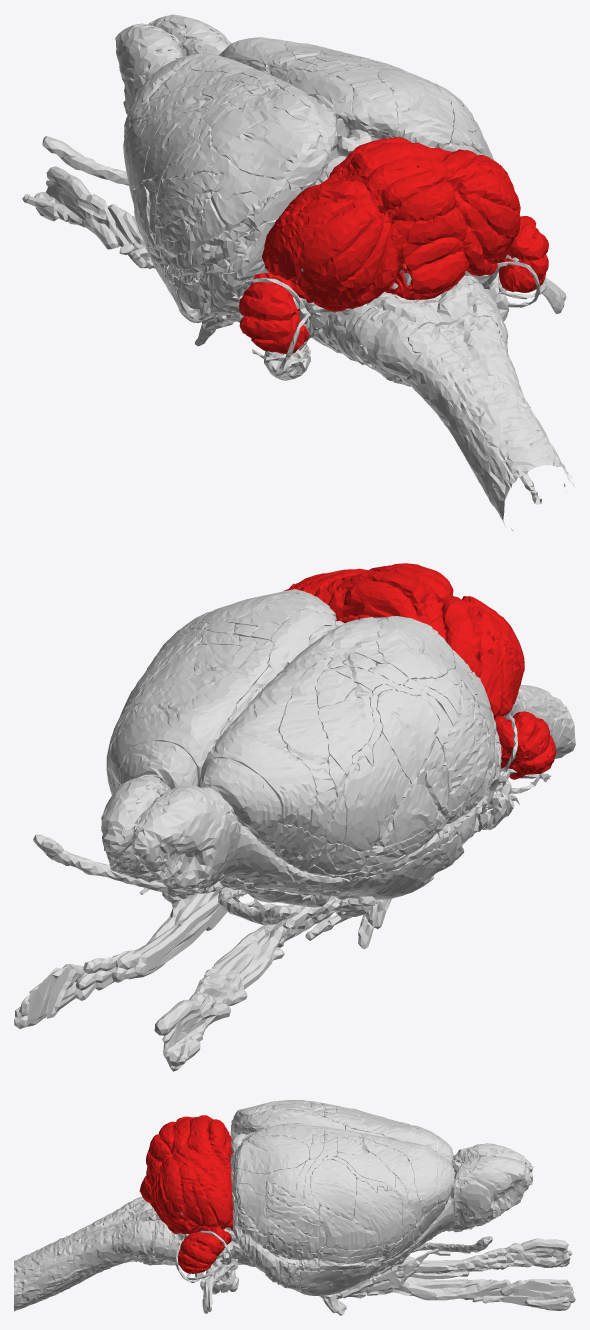
3 renders of one model, top to bottom at view 1: azimuth 30°, elevation 25°; view 2: azimuth 150°, elevation 25°; view 3: azimuth 270°, elevation 25°, orthographic. The views are drawn at different scales.
Visible parts, largest first — view 1: WHS_SD_rat_atlas_v4_00004, WHS_SD_rat_atlas_v4_00045, WHS_SD_rat_atlas_v4_00442, WHS_SD_rat_atlas_v4_00076, WHS_SD_rat_atlas_v4_00065, WHS_SD_rat_atlas_v4_00448, WHS_SD_rat_atlas_v4_00406, WHS_SD_rat_atlas_v4_00443, WHS_SD_rat_atlas_v4_00427, WHS_SD_rat_atlas_v4_00444, WHS_SD_rat_atlas_v4_00047, WHS_SD_rat_atlas_v4_00108 (+17 smaller); view 2: WHS_SD_rat_atlas_v4_00076, WHS_SD_rat_atlas_v4_00004, WHS_SD_rat_atlas_v4_00406, WHS_SD_rat_atlas_v4_00065, WHS_SD_rat_atlas_v4_00408, WHS_SD_rat_atlas_v4_00077, WHS_SD_rat_atlas_v4_00420, WHS_SD_rat_atlas_v4_00442, WHS_SD_rat_atlas_v4_00425, WHS_SD_rat_atlas_v4_00417, WHS_SD_rat_atlas_v4_00448, WHS_SD_rat_atlas_v4_00181 (+28 smaller); view 3: WHS_SD_rat_atlas_v4_00076, WHS_SD_rat_atlas_v4_00004, WHS_SD_rat_atlas_v4_00045, WHS_SD_rat_atlas_v4_00065, WHS_SD_rat_atlas_v4_00406, WHS_SD_rat_atlas_v4_00442, WHS_SD_rat_atlas_v4_00420, WHS_SD_rat_atlas_v4_00408, WHS_SD_rat_atlas_v4_00425, WHS_SD_rat_atlas_v4_00181, WHS_SD_rat_atlas_v4_00422, WHS_SD_rat_atlas_v4_00448 (+30 smaller).
Part boxes in pixels (bbox=[...]): WHS_SD_rat_atlas_v4_00004: bbox=[239, 137, 548, 354]; WHS_SD_rat_atlas_v4_00045: bbox=[401, 314, 575, 531]; WHS_SD_rat_atlas_v4_00442: bbox=[210, 69, 453, 190]; WHS_SD_rat_atlas_v4_00076: bbox=[22, 166, 508, 377]; WHS_SD_rat_atlas_v4_00065: bbox=[115, 14, 231, 115]; WHS_SD_rat_atlas_v4_00448: bbox=[230, 66, 399, 158]; WHS_SD_rat_atlas_v4_00406: bbox=[127, 37, 332, 115]; WHS_SD_rat_atlas_v4_00443: bbox=[183, 80, 476, 201]; WHS_SD_rat_atlas_v4_00427: bbox=[271, 69, 392, 191]; WHS_SD_rat_atlas_v4_00444: bbox=[163, 126, 493, 254]; WHS_SD_rat_atlas_v4_00047: bbox=[357, 275, 476, 386]; WHS_SD_rat_atlas_v4_00108: bbox=[192, 143, 482, 278]; WHS_SD_rat_atlas_v4_00076: bbox=[14, 715, 505, 1071]; WHS_SD_rat_atlas_v4_00004: bbox=[283, 563, 555, 779]; WHS_SD_rat_atlas_v4_00406: bbox=[109, 638, 330, 831]; WHS_SD_rat_atlas_v4_00065: bbox=[101, 774, 231, 893]; WHS_SD_rat_atlas_v4_00408: bbox=[108, 636, 344, 837]; WHS_SD_rat_atlas_v4_00077: bbox=[116, 740, 281, 842]; WHS_SD_rat_atlas_v4_00420: bbox=[108, 672, 411, 851]; WHS_SD_rat_atlas_v4_00442: bbox=[202, 589, 455, 679]; WHS_SD_rat_atlas_v4_00425: bbox=[134, 633, 439, 783]; WHS_SD_rat_atlas_v4_00417: bbox=[123, 644, 374, 774]; WHS_SD_rat_atlas_v4_00448: bbox=[227, 592, 388, 663]; WHS_SD_rat_atlas_v4_00181: bbox=[270, 834, 457, 899]; WHS_SD_rat_atlas_v4_00076: bbox=[117, 1197, 575, 1315]; WHS_SD_rat_atlas_v4_00004: bbox=[139, 1115, 232, 1273]; WHS_SD_rat_atlas_v4_00045: bbox=[14, 1202, 135, 1311]; WHS_SD_rat_atlas_v4_00065: bbox=[450, 1143, 533, 1232]; WHS_SD_rat_atlas_v4_00406: bbox=[324, 1112, 437, 1216]; WHS_SD_rat_atlas_v4_00442: bbox=[230, 1100, 309, 1174]; WHS_SD_rat_atlas_v4_00420: bbox=[352, 1178, 402, 1246]; WHS_SD_rat_atlas_v4_00408: bbox=[324, 1109, 422, 1224]; WHS_SD_rat_atlas_v4_00425: bbox=[310, 1105, 356, 1220]; WHS_SD_rat_atlas_v4_00181: bbox=[300, 1236, 420, 1295]; WHS_SD_rat_atlas_v4_00422: bbox=[319, 1206, 376, 1250]; WHS_SD_rat_atlas_v4_00448: bbox=[241, 1101, 324, 1156].
Bounding box in the file's own units: 17.91 × 14.62 × 39.8.
